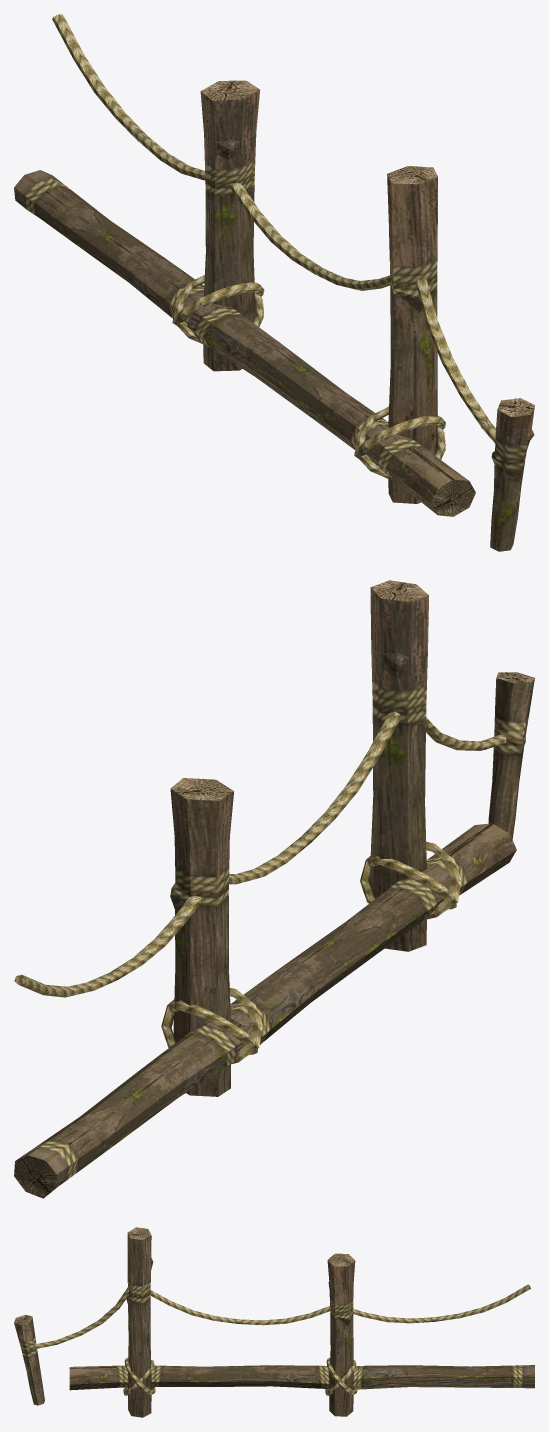
Rendered from bg_anh_mirrorv_logbridge02_a_sm_out.FBX.
3 renders of one model, top to bottom at view 1: azimuth 30°, elevation 25°; view 2: azimuth 150°, elevation 25°; view 3: azimuth 270°, elevation 25°, orthographic. The views are drawn at different scales.
Visible parts, largest first — view 1: bg_anh_mirrorv_logbridge02_a_sm_out; view 2: bg_anh_mirrorv_logbridge02_a_sm_out; view 3: bg_anh_mirrorv_logbridge02_a_sm_out.
Boxes of the visible parts, x1,y1,x2,y2 form: bg_anh_mirrorv_logbridge02_a_sm_out: (14,14,534,551); bg_anh_mirrorv_logbridge02_a_sm_out: (14,580,534,1198); bg_anh_mirrorv_logbridge02_a_sm_out: (14,1227,534,1417).
Size of the model in its own units: 52.67 by 182 by 485.
